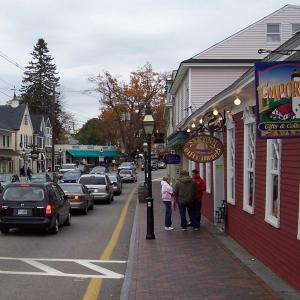Vehicle-registration-plate: (20, 209, 29, 219), (91, 188, 99, 194)
